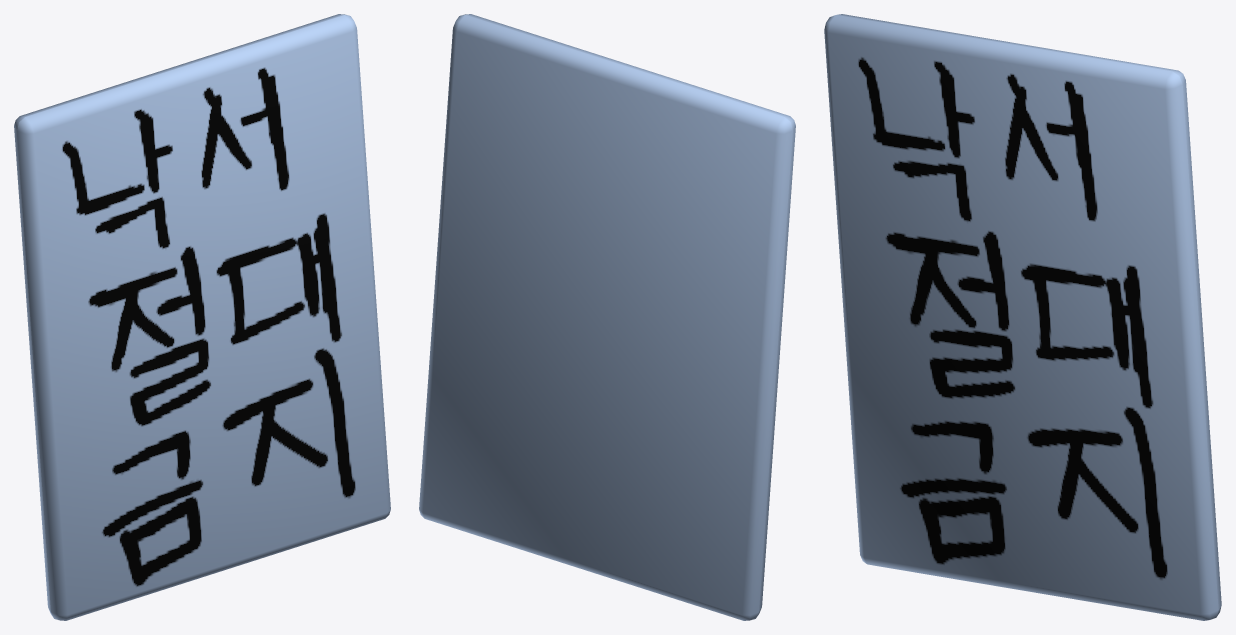
The model's file is DoNotNakseoMemo.glb.
3 views of the same model, side by side, from view 1: azimuth 30°, elevation 25°; view 2: azimuth 150°, elevation 25°; view 3: azimuth 330°, elevation 25° (orthographic). The views are drawn at different scales.
Visible parts, largest first — view 1: DoNotNakseo; view 2: DoNotNakseo; view 3: DoNotNakseo.
Boxes of the visible parts, x1=… form: DoNotNakseo: x1=14, y1=14, x2=390, y2=620; DoNotNakseo: x1=419, y1=14, x2=795, y2=620; DoNotNakseo: x1=824, y1=14, x2=1221, y2=620.
Bounding box in the file's own units: 1.05 × 1.44 × 0.078.
Materials: 1 (1 with a texture image).
